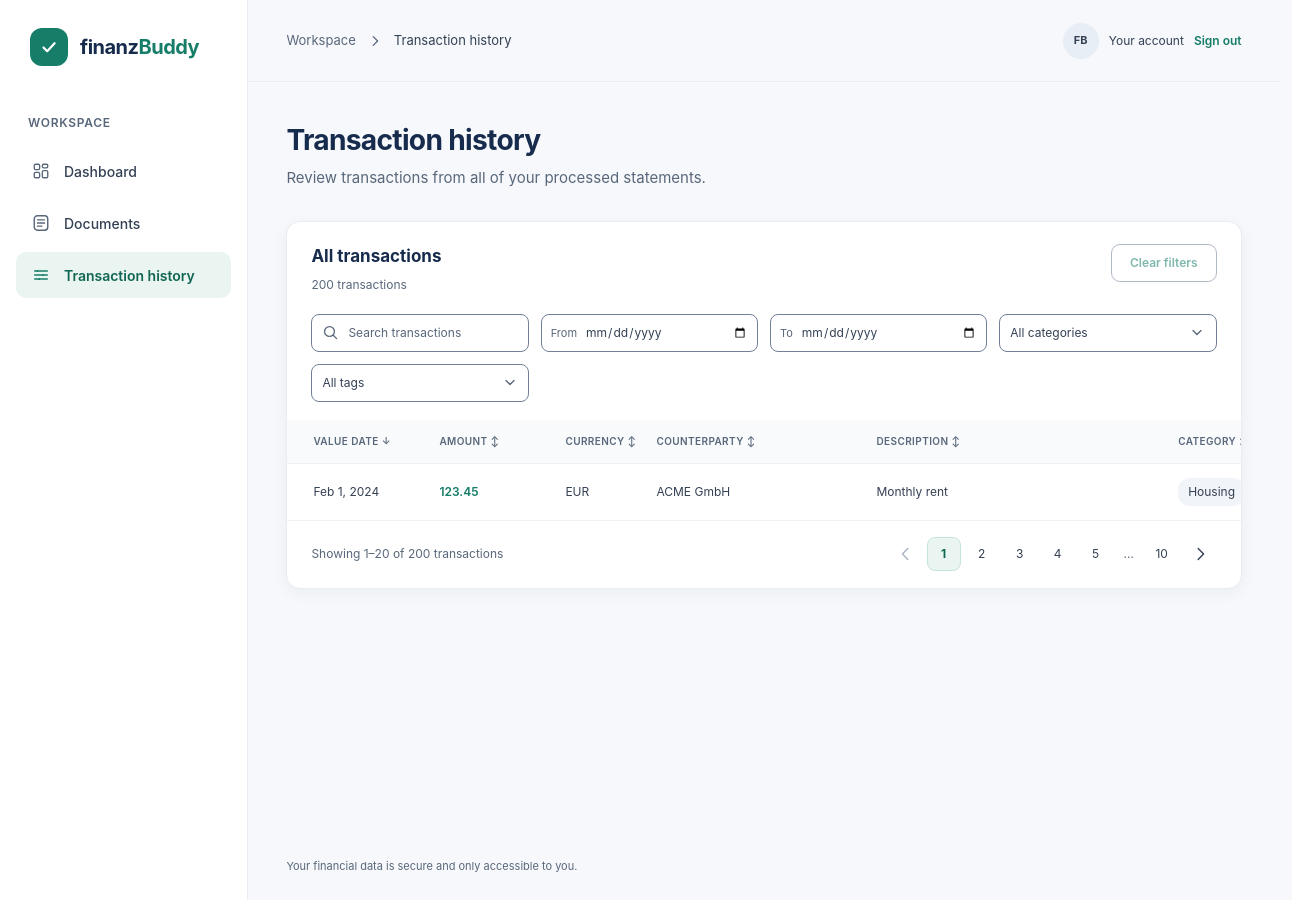
Test case: TransactionHistoryPage › jumps directly to first and last pages with condensed numbers and disabled boundary arrows
This screenshot has width=1292, height=900.
(page scrolled)
Check: the table named "Transaction history" is shown, box [287,420,1241,520]
Check: the text "…" is shown, box [1123,546,1134,561]
Click the button named "Page 10" at (1162, 554), box [1145,537,1179,571]
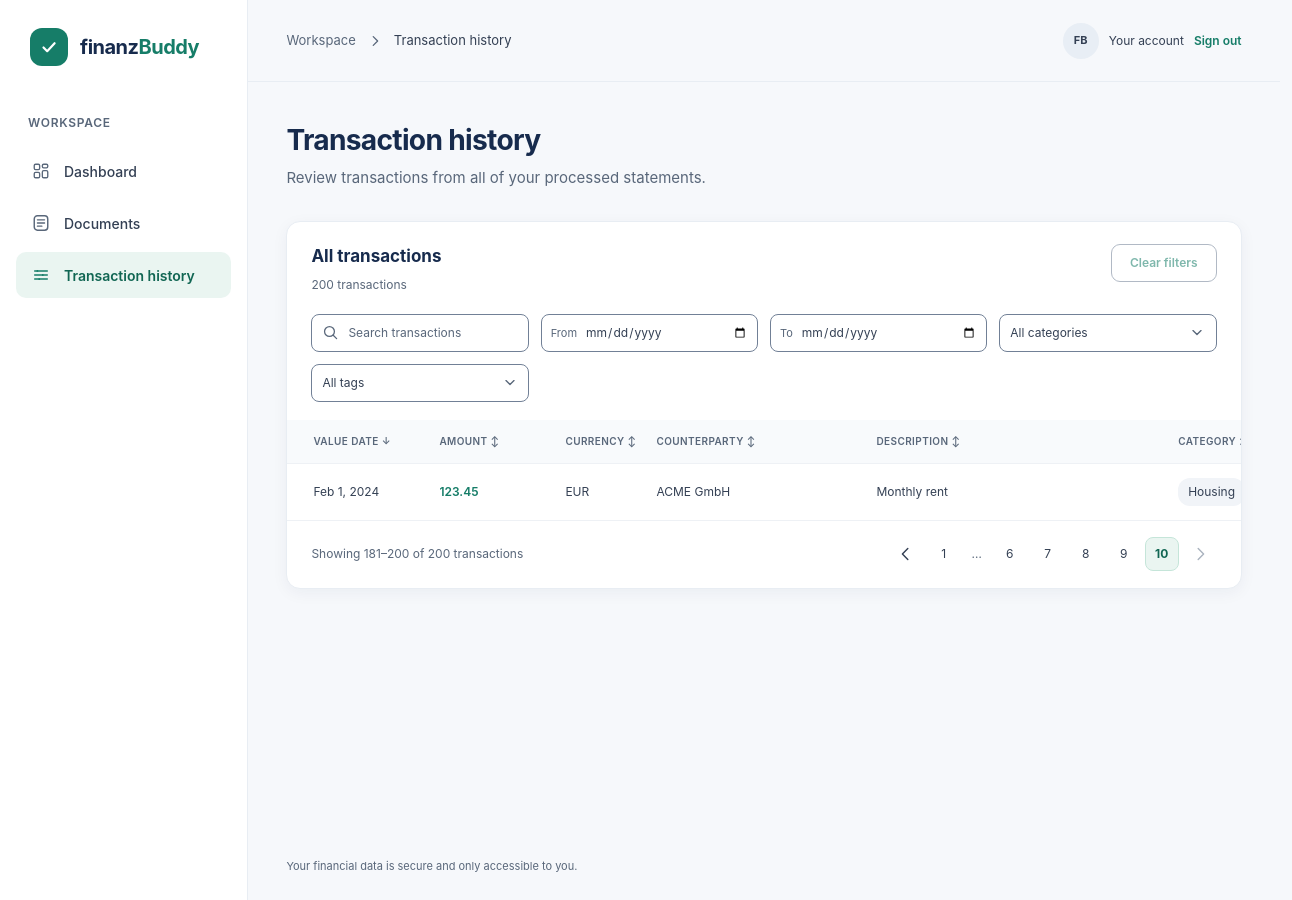
Check: the button named "Next page" is disabled, box [1183,537,1217,571]
Check: the button named "Previous page" is enabled, box [889,537,923,571]
Click the button named "Page 1" at (944, 554), box [927,537,961,571]
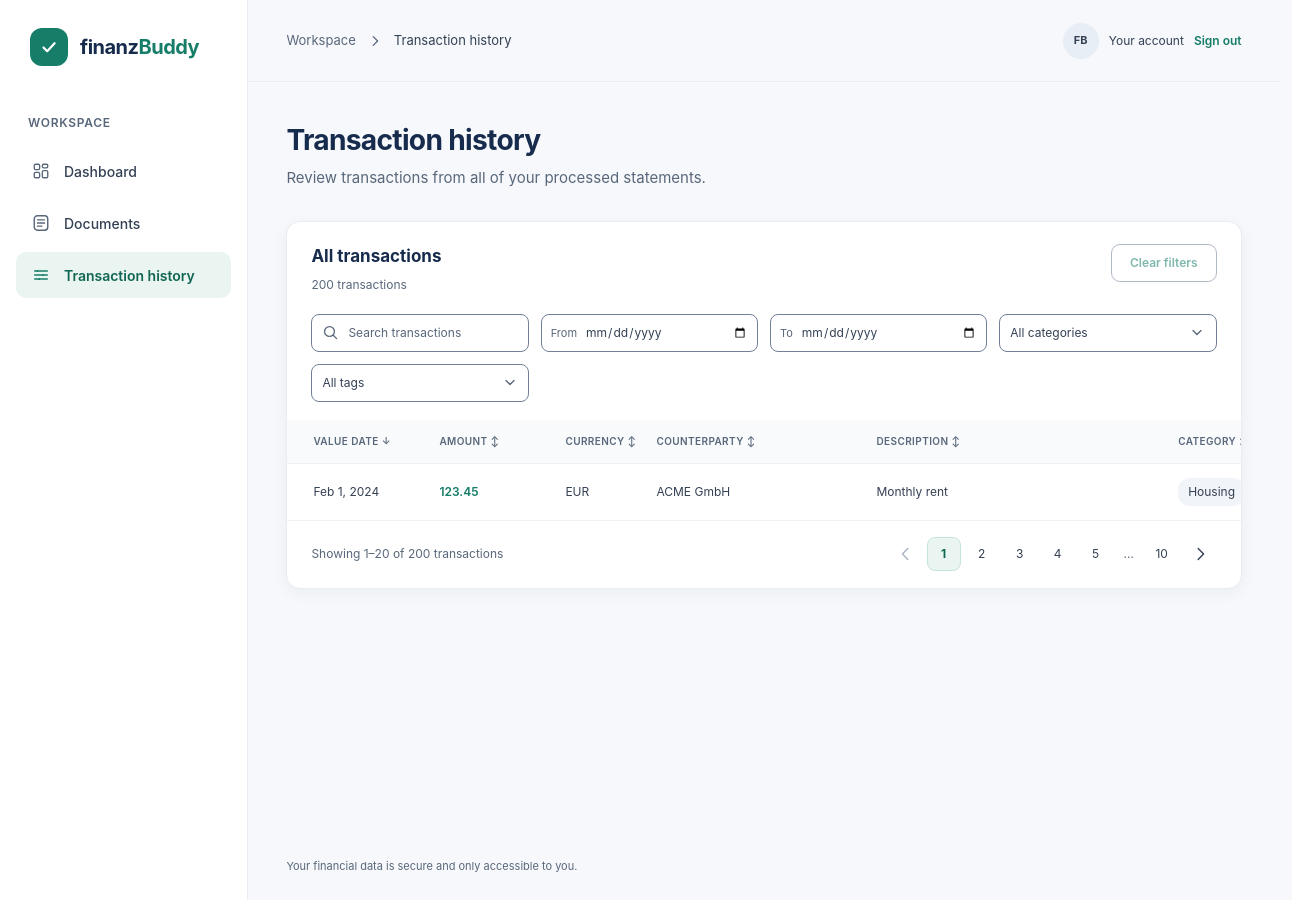
Check: the button named "Previous page" is disabled, box [889,537,923,571]
